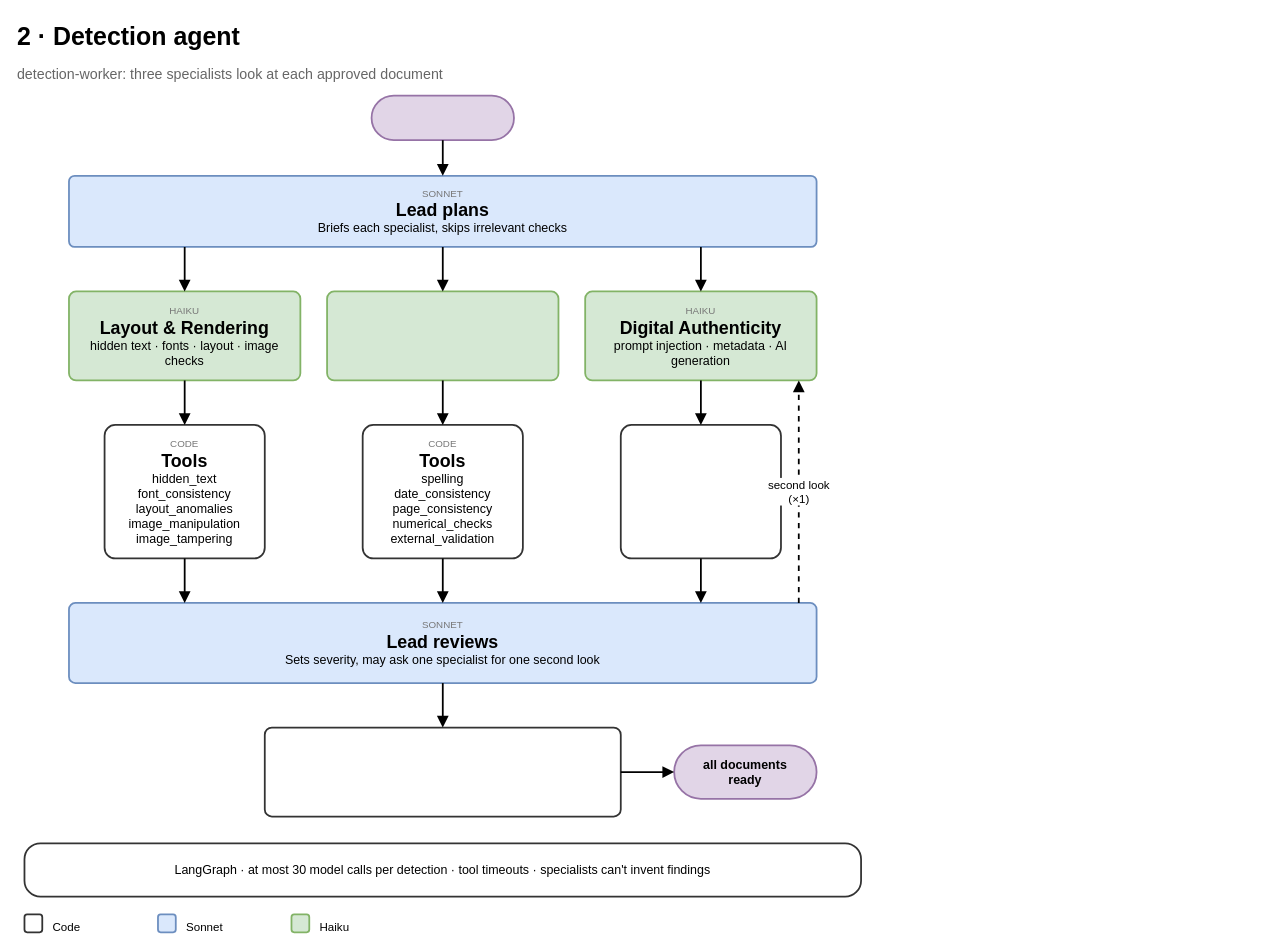
The diagram is 1276 pixels wide and 950 high, and some of its shapes have lost their labels. The box of each missing label's shape, as (x1, y1, x2, y2) in pixels:
approved event: (370, 94, 514, 141)
CODE Merge & save Hard breaches can't be dismissed: (263, 726, 621, 817)
CODE Tools prompt_injection metadata ai_generation: (619, 424, 781, 559)
HAIKU Content Validation spelling · dates · pages · numbers · external lookups: (326, 290, 559, 381)
